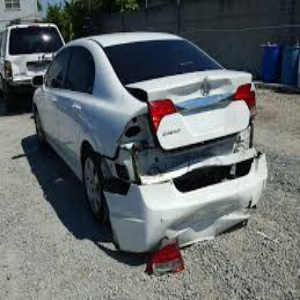bumper: (101, 142, 276, 246)
